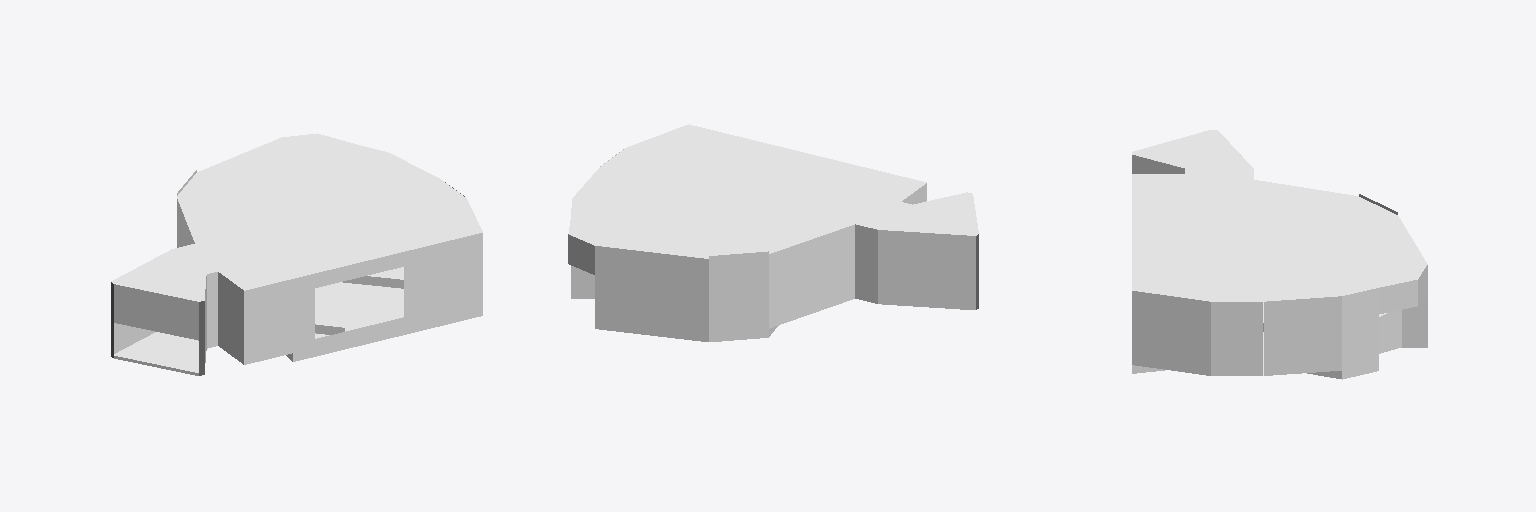
File: DOOMM1_GR.obj
3 views of the same model, side by side, from view 1: azimuth 30°, elevation 25°; view 2: azimuth 150°, elevation 25°; view 3: azimuth 270°, elevation 25° (orthographic).
Visible parts, largest first — view 1: iconicroom, Object001; view 2: iconicroom; view 3: iconicroom, pader, pader001.
Boxes of the visible parts, box(x1,y1,x2,y2) form: iconicroom: box(111, 133, 482, 375); Object001: box(111, 282, 204, 375); iconicroom: box(568, 124, 978, 341); iconicroom: box(1132, 130, 1427, 379); pader: box(1264, 296, 1341, 375); pader001: box(1211, 302, 1262, 375).
Size of the model in its own units: 37.89 by 8.85 by 27.46.